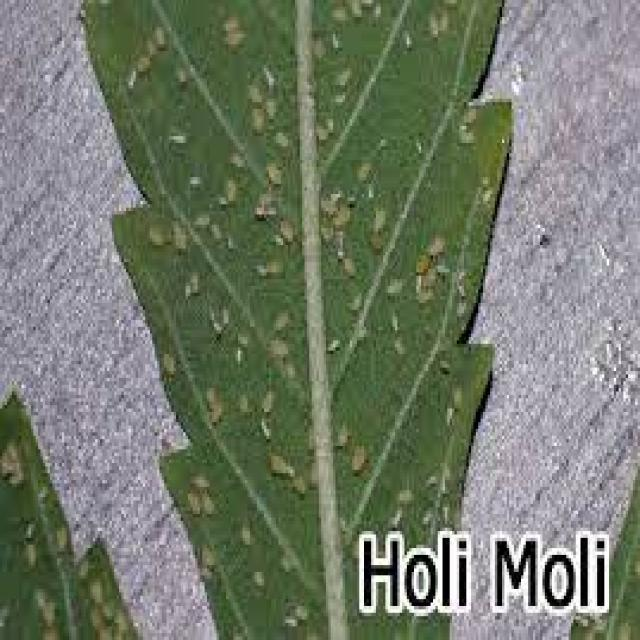aphid: (197, 211, 231, 249), (152, 341, 183, 382), (342, 432, 373, 473), (164, 211, 190, 259), (24, 572, 52, 616), (262, 439, 290, 480), (324, 412, 352, 453), (216, 20, 248, 54), (305, 109, 333, 146), (262, 327, 292, 361), (364, 197, 390, 235), (272, 211, 298, 249), (260, 153, 286, 191), (266, 296, 290, 337), (83, 565, 105, 609), (200, 395, 226, 432), (257, 249, 288, 279), (349, 150, 374, 187), (48, 511, 69, 555), (216, 166, 238, 208), (140, 214, 164, 252), (328, 194, 352, 232), (193, 483, 219, 518), (230, 511, 254, 548), (286, 463, 310, 500), (245, 99, 269, 136), (186, 463, 212, 497), (421, 224, 447, 258), (410, 245, 436, 279), (445, 371, 466, 412), (255, 378, 276, 419), (197, 374, 219, 412), (245, 558, 269, 592), (138, 28, 162, 62), (17, 531, 38, 569), (421, 4, 440, 44), (217, 7, 245, 34), (147, 17, 169, 51), (181, 483, 202, 518), (186, 204, 212, 232), (454, 99, 478, 129), (336, 249, 360, 279), (128, 48, 154, 75), (167, 58, 190, 88), (324, 0, 349, 27), (452, 122, 476, 150), (266, 122, 290, 150), (393, 477, 414, 507), (72, 548, 90, 582), (233, 384, 250, 418), (614, 612, 633, 636)
